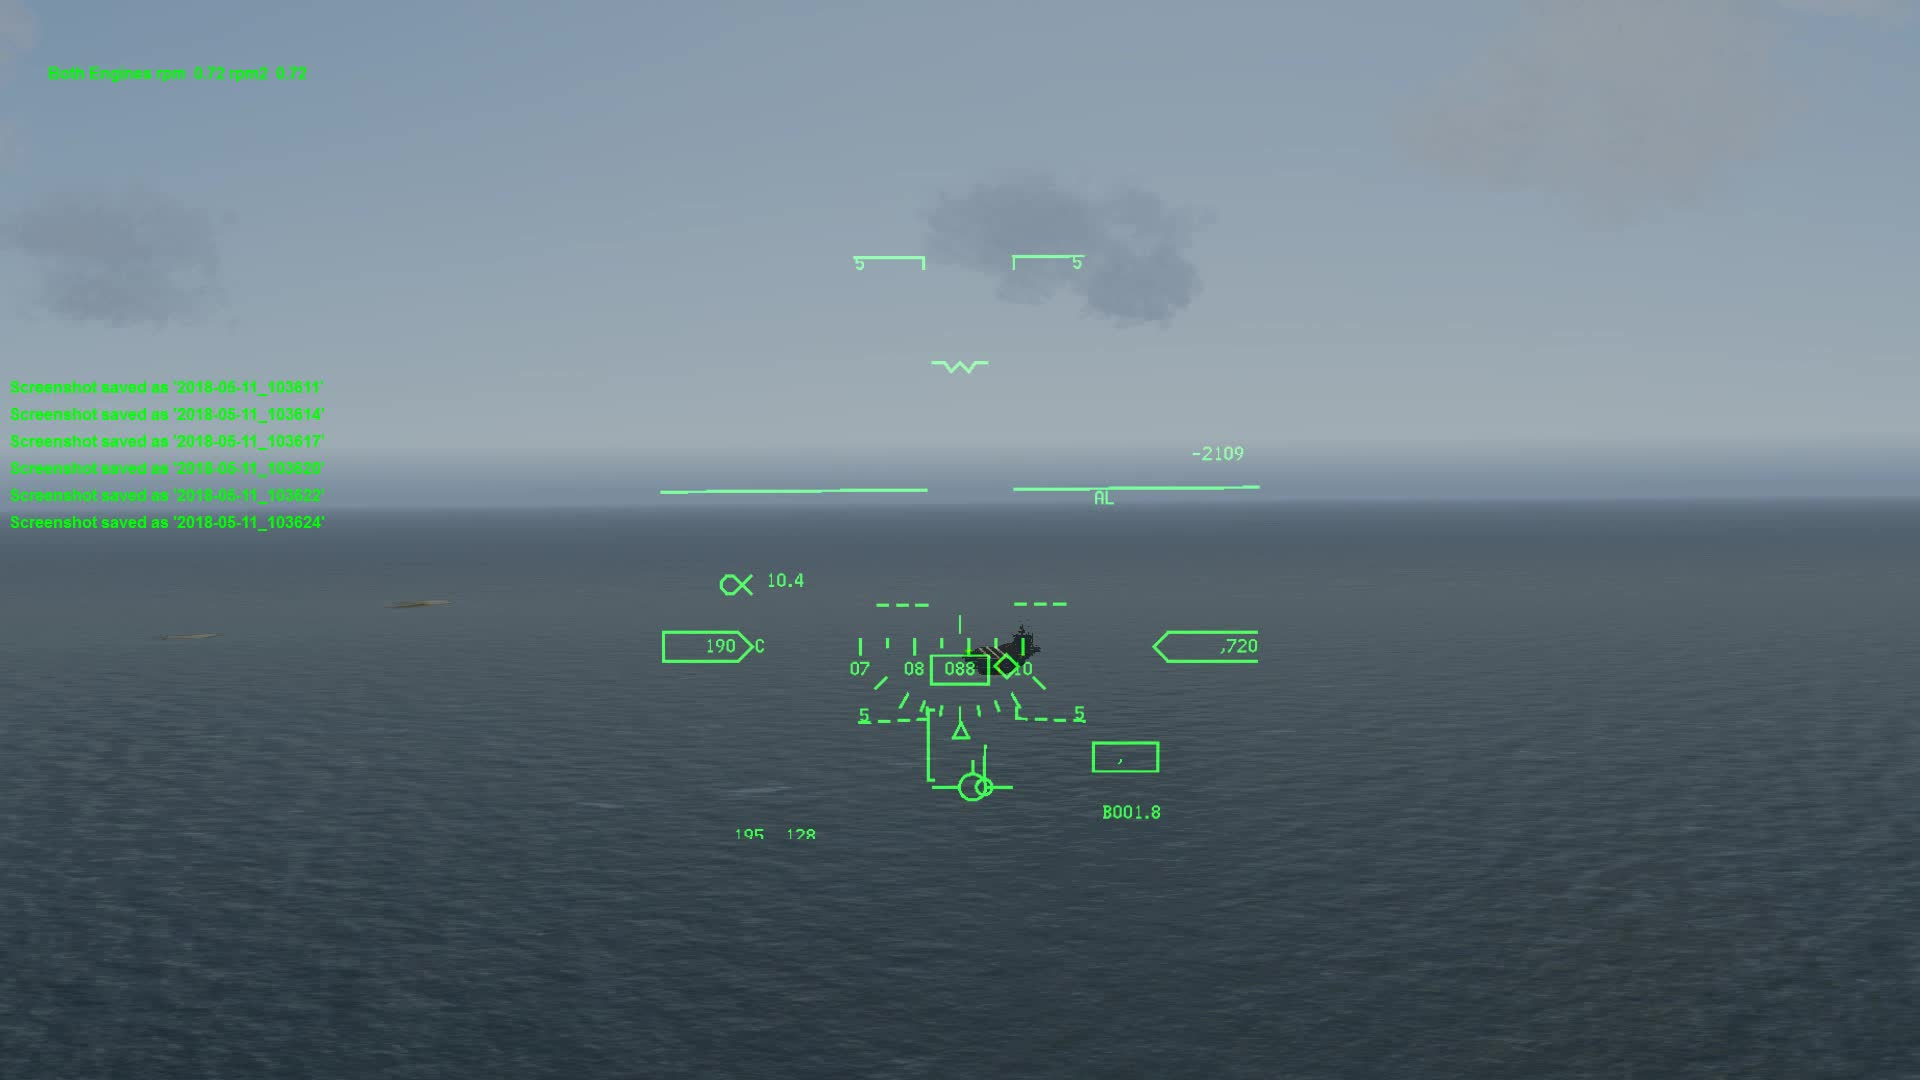speed vector: (951, 765, 1006, 822)
